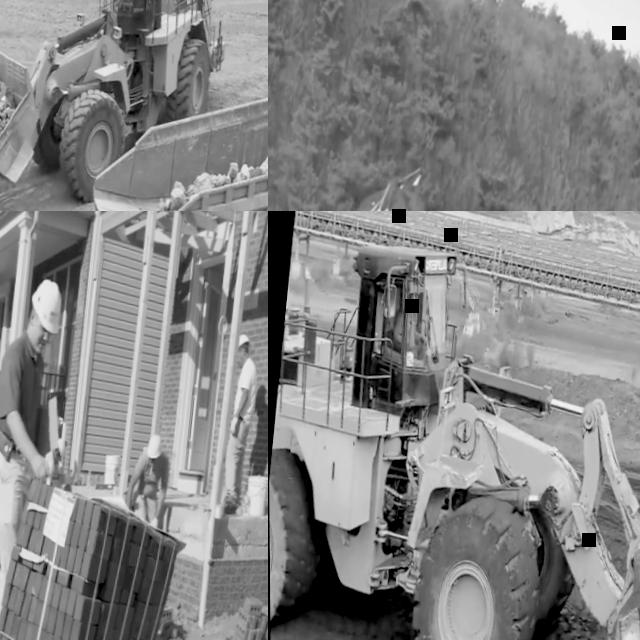Hardhat: (28, 279, 64, 335), (145, 430, 163, 456), (55, 437, 68, 459), (237, 330, 249, 348)
NO-Mask: (30, 332, 45, 351), (236, 353, 244, 365), (147, 462, 155, 472)
NO-Safety Vest: (0, 340, 45, 455), (136, 452, 167, 503), (235, 360, 259, 420), (398, 312, 416, 346), (43, 449, 57, 484)
Person: (0, 275, 68, 640), (217, 333, 260, 513), (123, 428, 175, 530), (394, 300, 430, 350), (43, 436, 68, 482)
vehicle: (268, 226, 640, 640), (0, 0, 238, 211), (64, 26, 268, 211)
